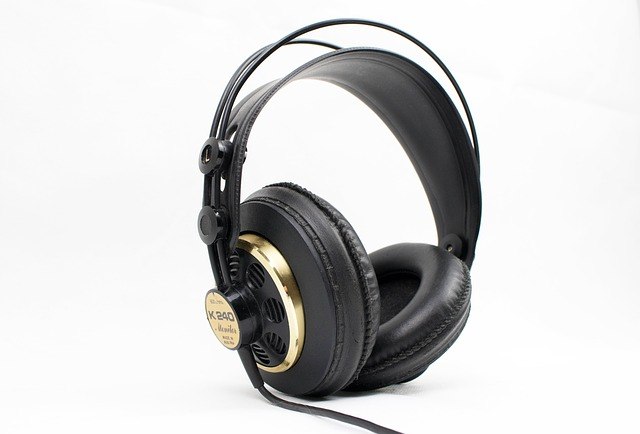headphones: (198, 20, 483, 401)
